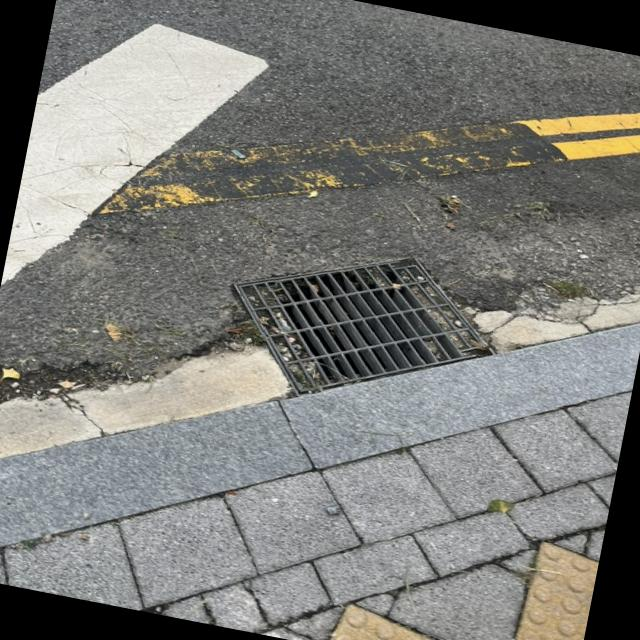drain_area: (281, 272, 464, 380)
drain_full: (240, 259, 494, 396)
